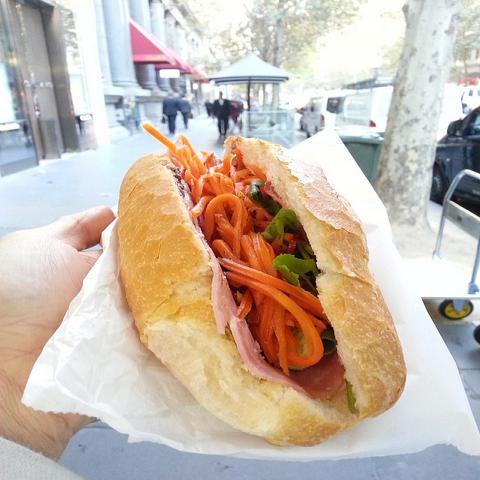car: (342, 97, 368, 126)
truck: (427, 106, 479, 215), (297, 96, 340, 139)
